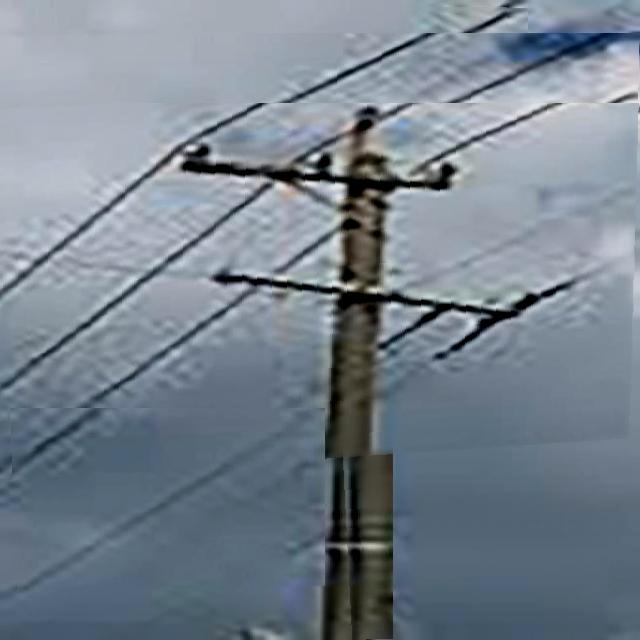crossarm: (184, 161, 459, 220)
pole: (345, 171, 393, 640)
wire: (0, 33, 624, 394), (0, 103, 588, 478), (15, 6, 528, 303), (15, 408, 324, 593)
